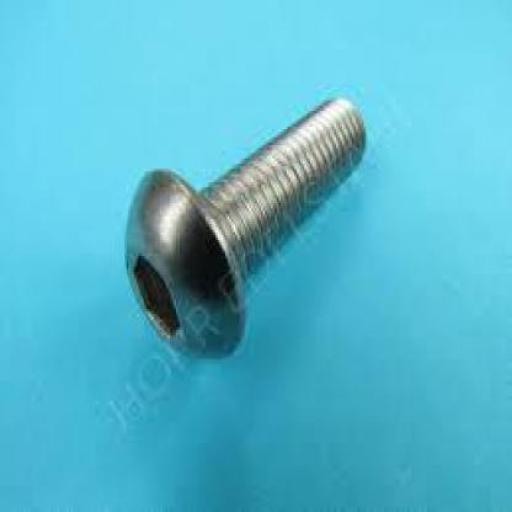Bolt: (123, 97, 366, 359)
